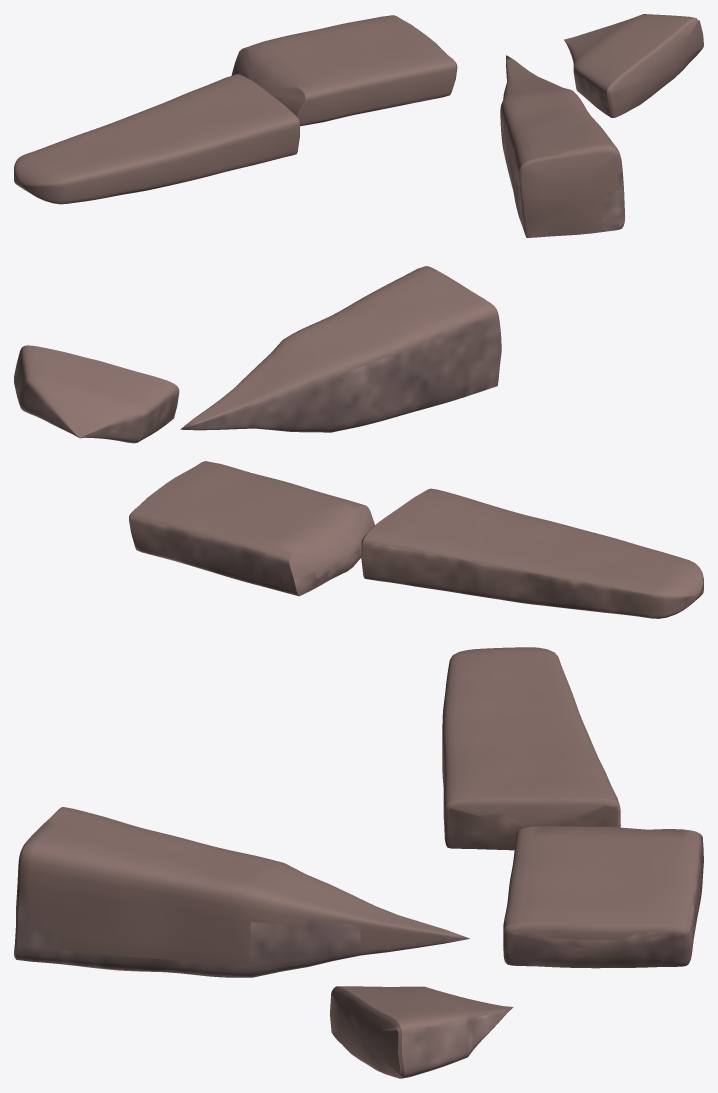
The model's file is TarHenge07.glb.
The picture shows the model from 3 angles, top to bottom: view 1: azimuth 30°, elevation 25°; view 2: azimuth 150°, elevation 25°; view 3: azimuth 270°, elevation 25°; orthographic projection. The views are drawn at different scales.
Visible parts, largest first — view 1: TarHenge07; view 2: TarHenge07; view 3: TarHenge07.
Boxes of the visible parts, left/top/right/bottom form: TarHenge07: left=14, top=14, right=703, bottom=237; TarHenge07: left=14, top=266, right=703, bottom=618; TarHenge07: left=14, top=647, right=703, bottom=1078.
Bounding box in the file's own units: 6.52 × 0.7869 × 4.41.
2 materials, 1 textured.
